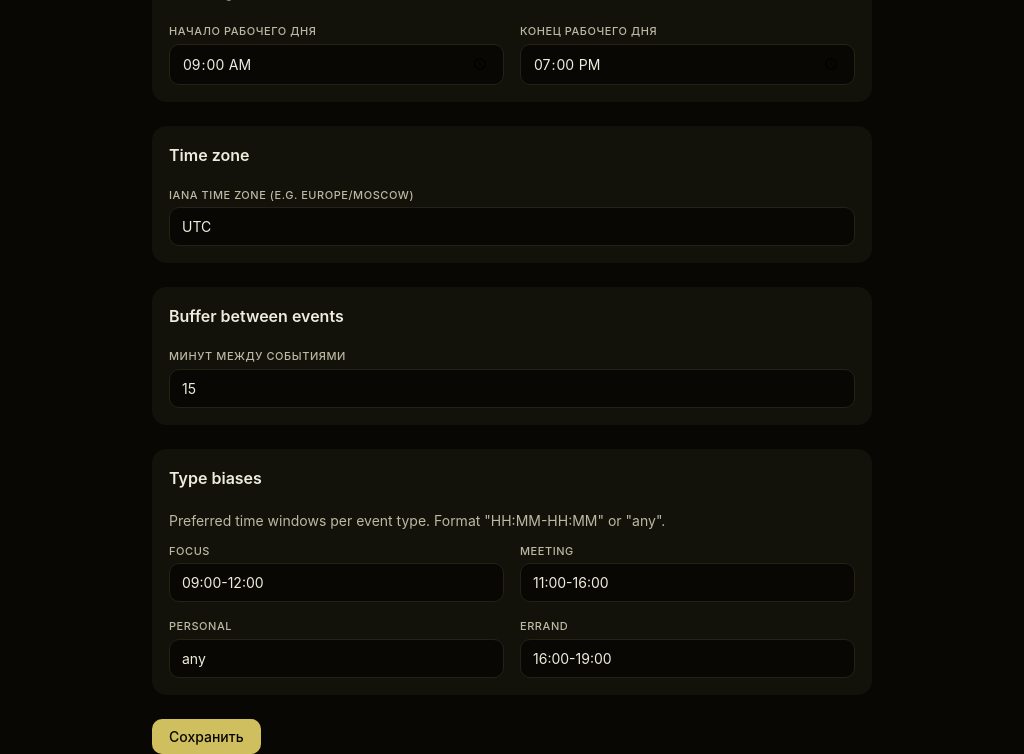
Test case: Settings page › shows an error message when the API rejects the update
(page scrolled)
expect the time field labelled "Начало рабочего дня" is shown: met, box [169,44,504,84]
Click the button "Сохранить".
click(206, 736)  # box [152,718,261,753]
(page scrolled)
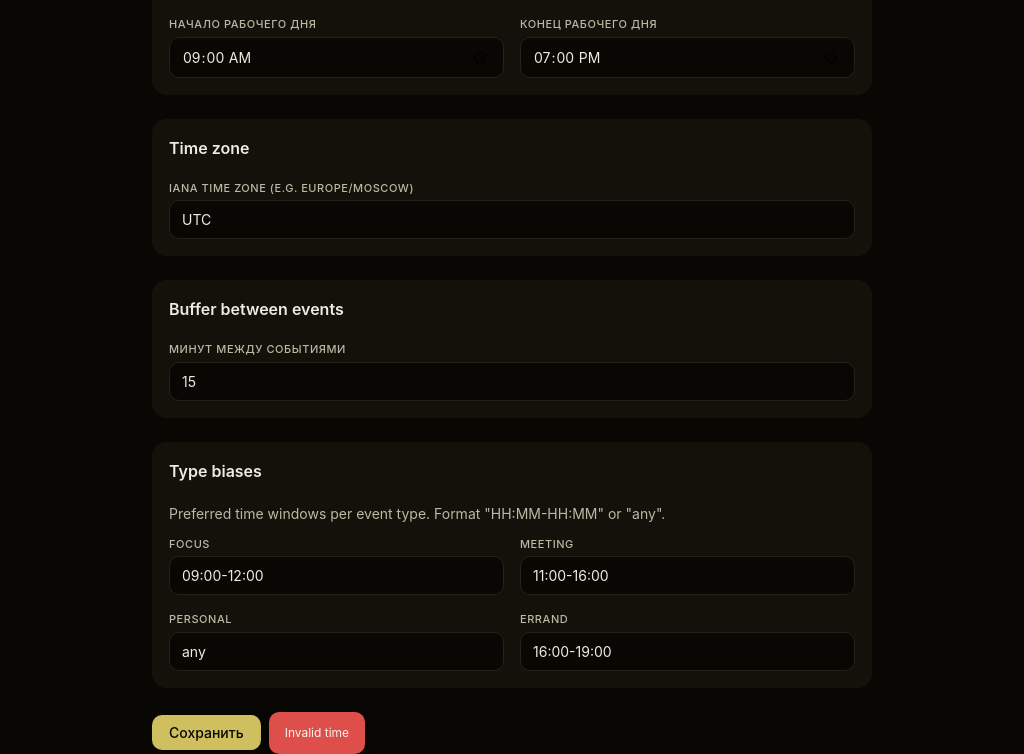
expect the message "Invalid time" is shown: met, box [269,712,365,753]
